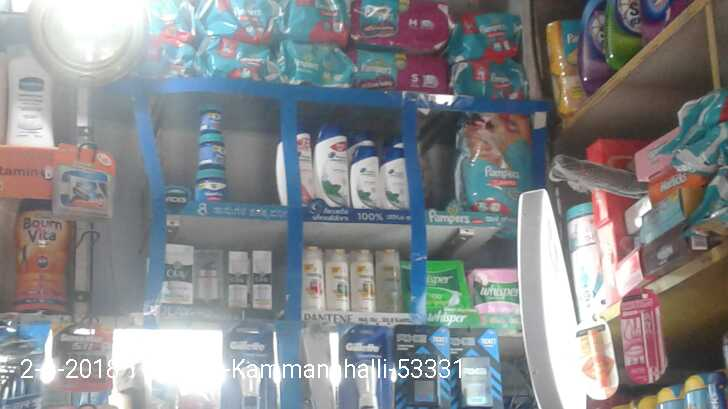vicks: (196, 170, 226, 203), (198, 135, 227, 168), (200, 104, 223, 134)
